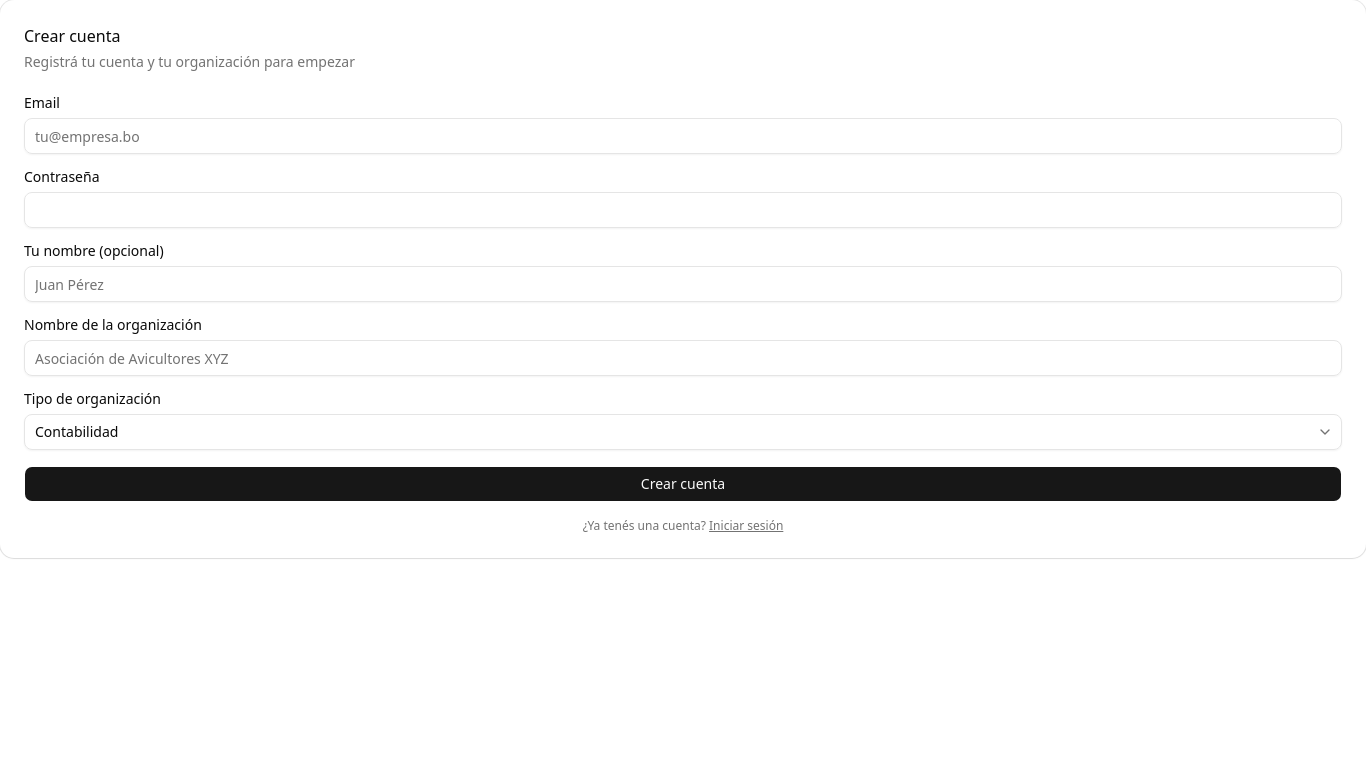
Test case: RegisterForm › muestra errores de validación si los campos obligatorios están vacíos
Step 1. Click the button "Crear cuenta" → coordinates (683, 484), box x1=24 y1=466 x2=1342 y2=502
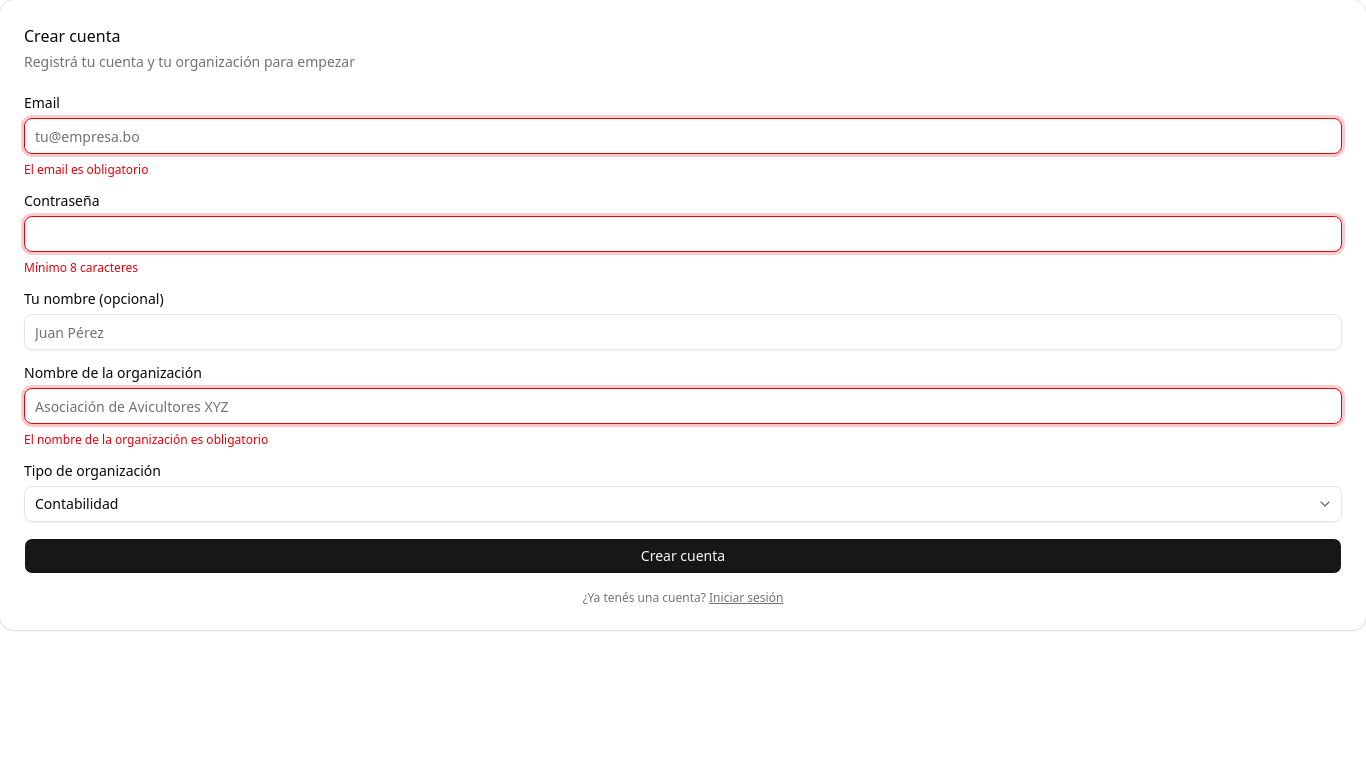
Now the text "El email es obligatorio" is shown, box x1=24 y1=161 x2=148 y2=178
Now the text "El nombre de la organización es obligatorio" is shown, box x1=24 y1=431 x2=268 y2=448
